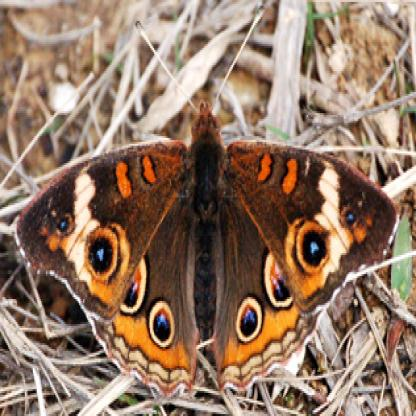Common Buckeye: (10, 77, 403, 393)
